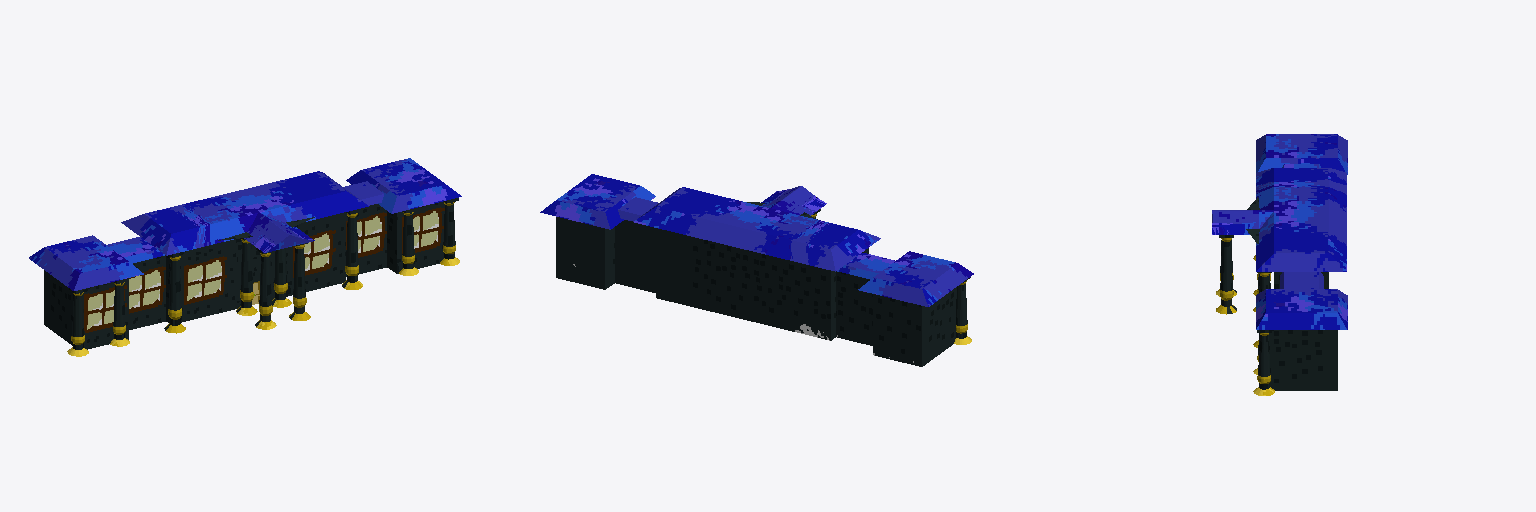
3 renders of one model, left to right at view 1: azimuth 30°, elevation 25°; view 2: azimuth 150°, elevation 25°; view 3: azimuth 270°, elevation 25°, orthographic.
Parts seen in each view (by area): view 1: Cube_Cube.001; view 2: Cube_Cube.001; view 3: Cube_Cube.001.
Part boxes in pixels (x1,y1,x2,y2): Cube_Cube.001: (29,158,461,356); Cube_Cube.001: (540,174,973,366); Cube_Cube.001: (1212,134,1347,395).
Bounding box in the file's own units: 27.77 × 6.2 × 8.33.
Materials: 1 (1 with a texture image).